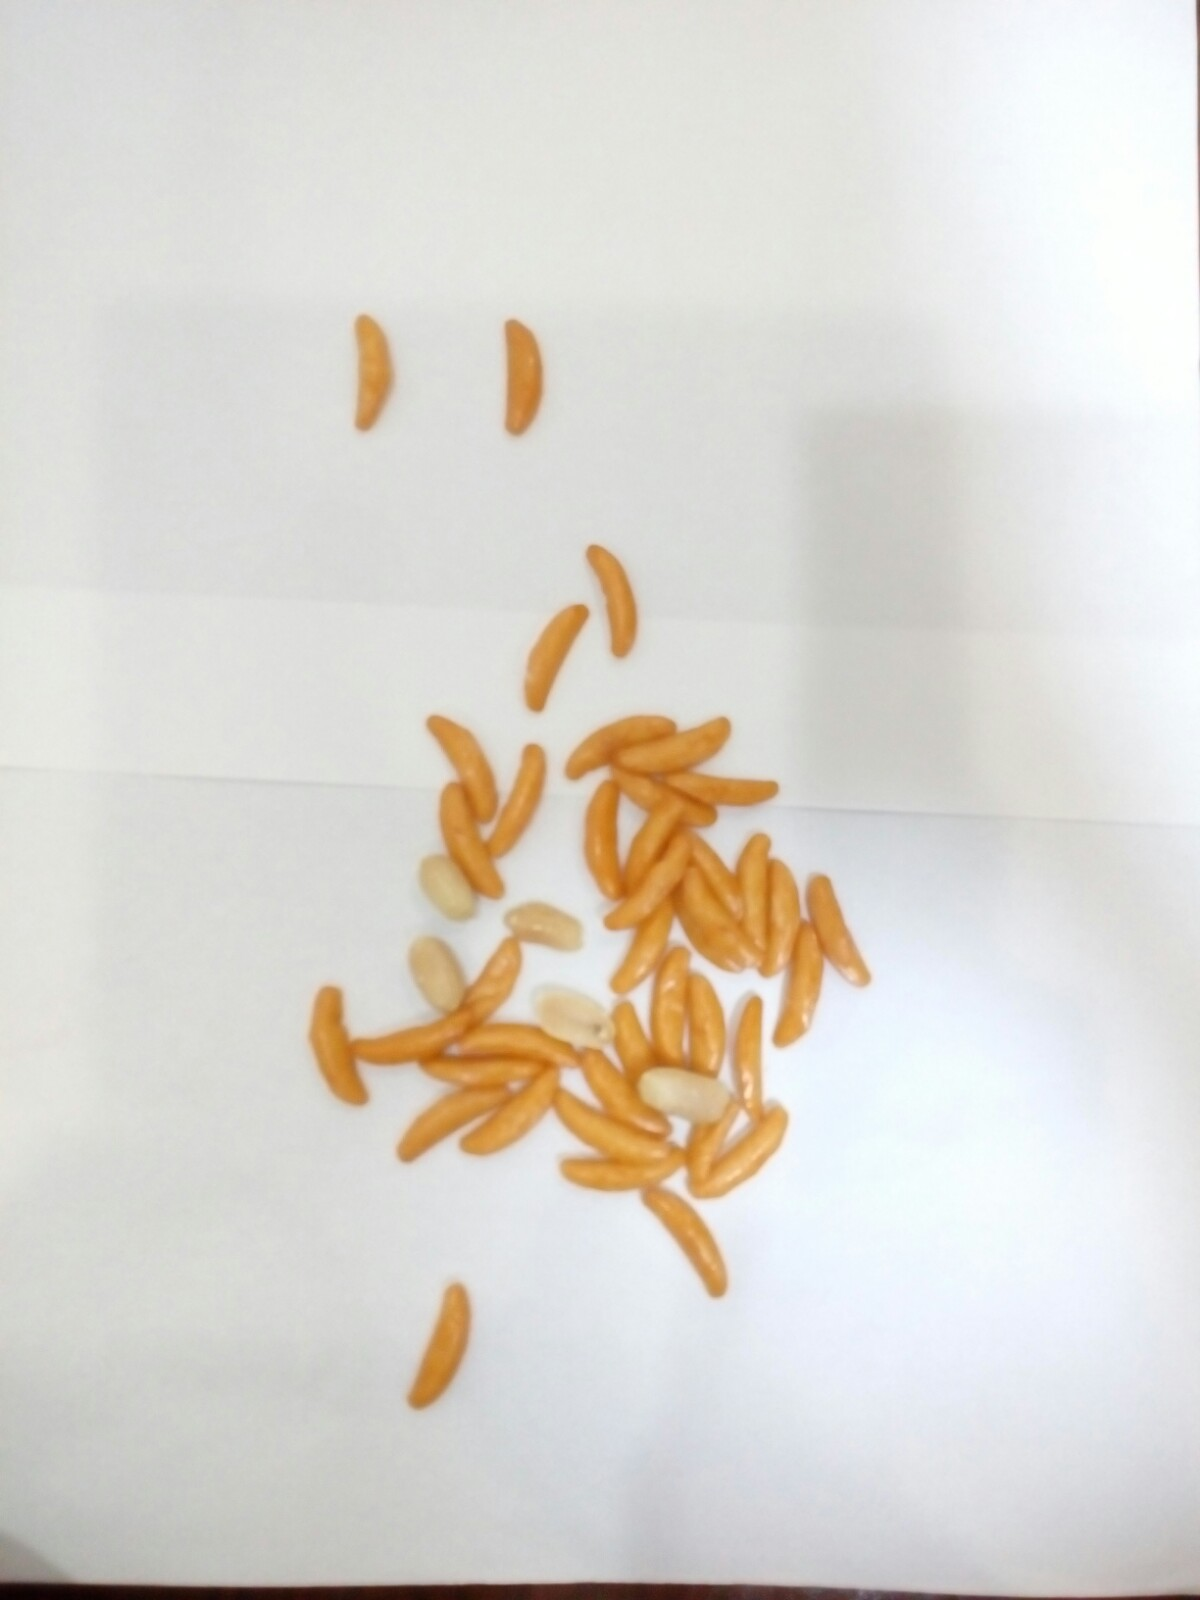peanut: (637, 1054, 750, 1129), (528, 970, 611, 1057), (411, 847, 490, 925), (500, 897, 587, 959), (408, 936, 471, 1020)
